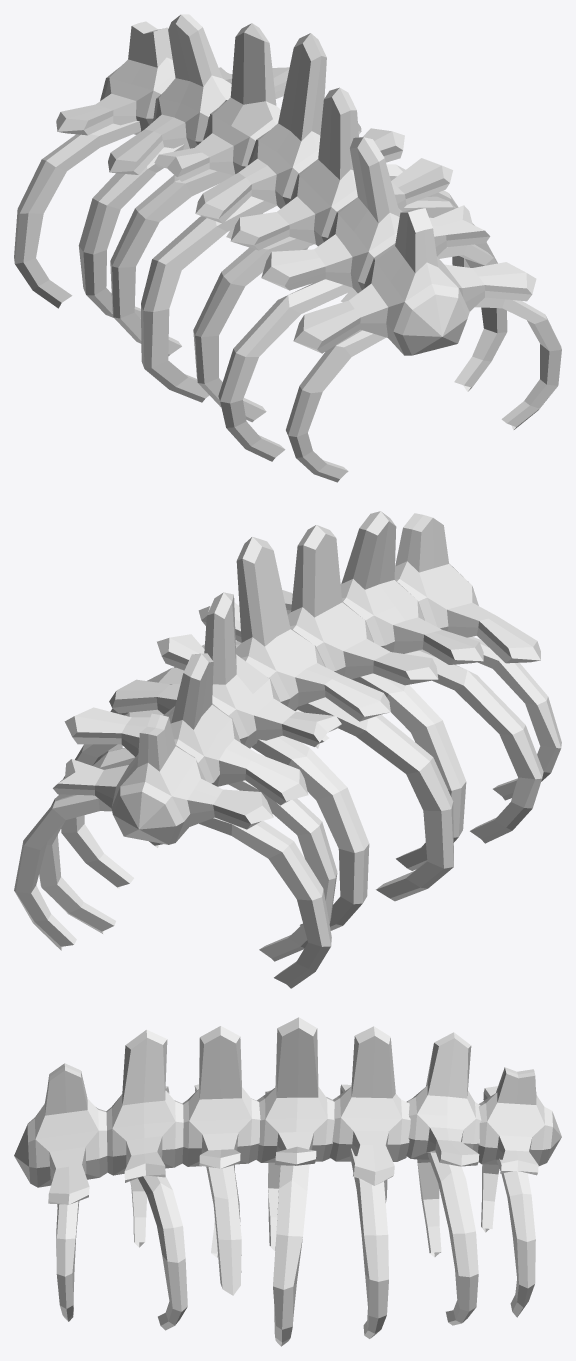
Rendered from Drg_Bone_00.FBX.
3 renders of one model, top to bottom at view 1: azimuth 30°, elevation 25°; view 2: azimuth 150°, elevation 25°; view 3: azimuth 270°, elevation 25°, orthographic. The views are drawn at different scales.
Visible parts, largest first — view 1: Drg_Bone_00; view 2: Drg_Bone_00; view 3: Drg_Bone_00.
Boxes of the visible parts, x1,y1,x2,y2 form: Drg_Bone_00: [14, 14, 561, 482]; Drg_Bone_00: [14, 511, 561, 988]; Drg_Bone_00: [14, 1017, 561, 1346].
Size of the model in its own units: 9.26 by 8.49 by 14.7.
